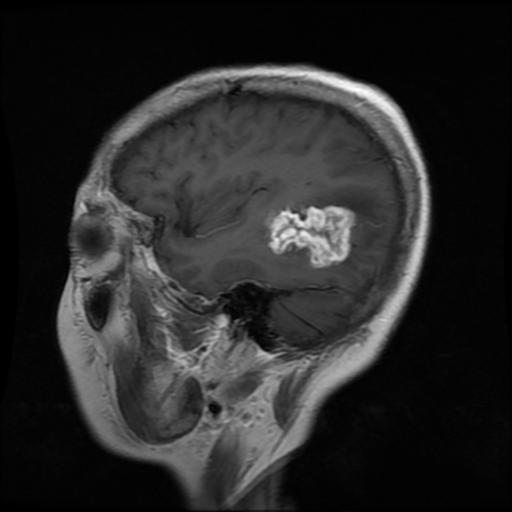Gliomia_tumour: (264, 203, 356, 267)
